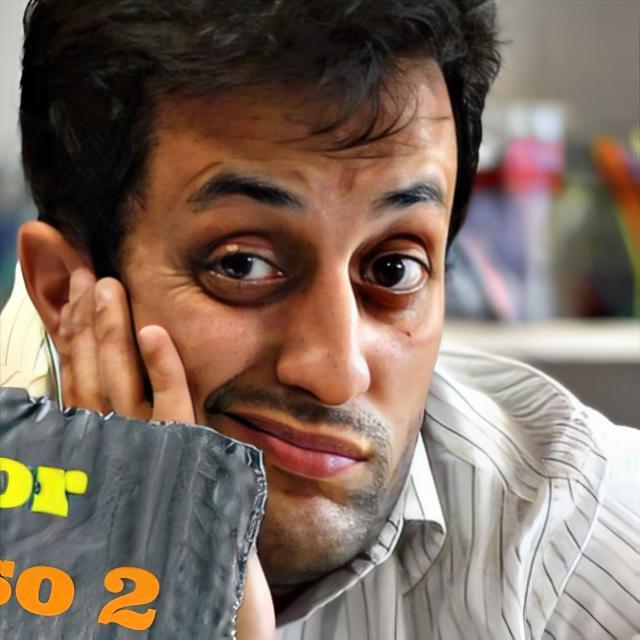content: (115, 51, 460, 593)
